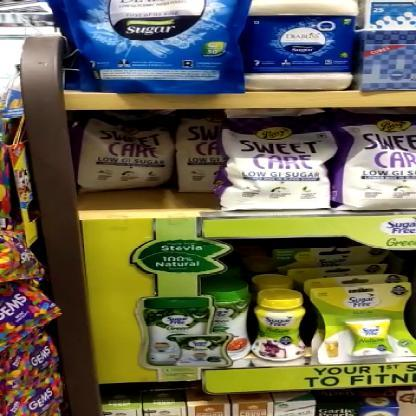SUGAR FREE NATURA 500 PELLET: (313, 286, 415, 360)
SUGAR FREE NATURA_ POWDER_CONC_100G: (252, 288, 305, 362)
